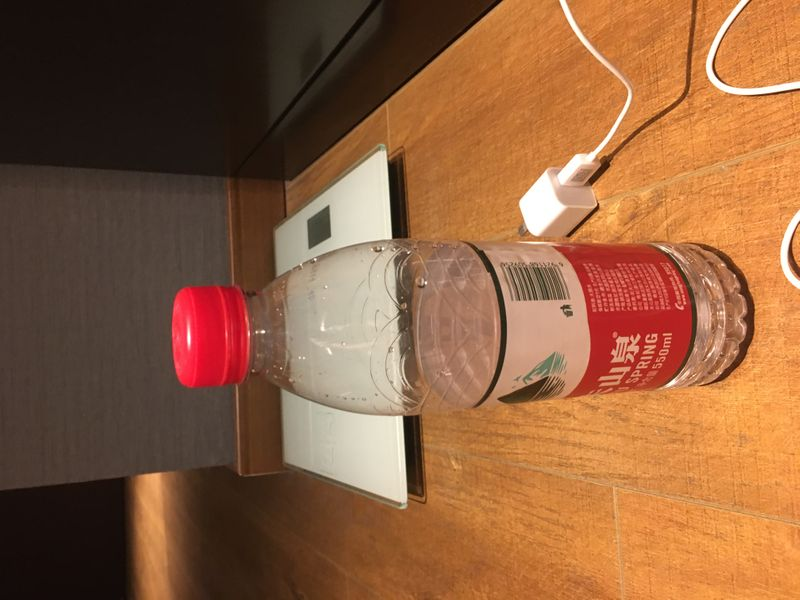5eca67a90202601e8cb8d104: (162, 237, 752, 417)
